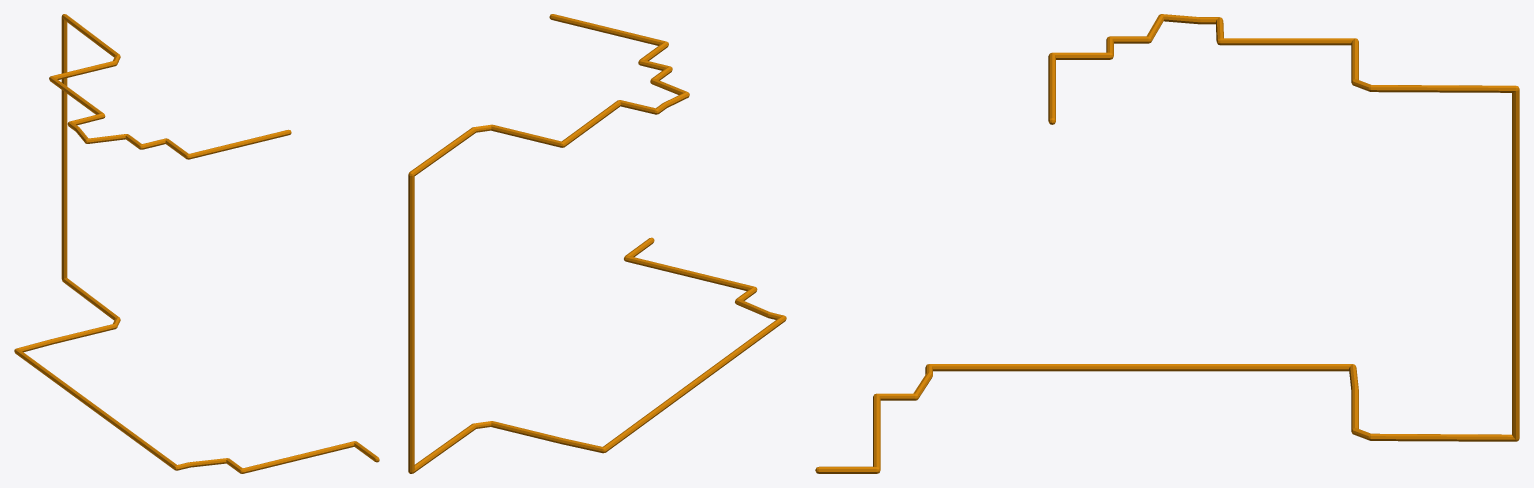
The picture shows the model from 3 angles, left to right: view 1: azimuth 30°, elevation 25°; view 2: azimuth 150°, elevation 25°; view 3: azimuth 270°, elevation 25°; orthographic projection. The views are drawn at different scales.
Bounding box in the file's own units: 658 × 1020 × 1830.
